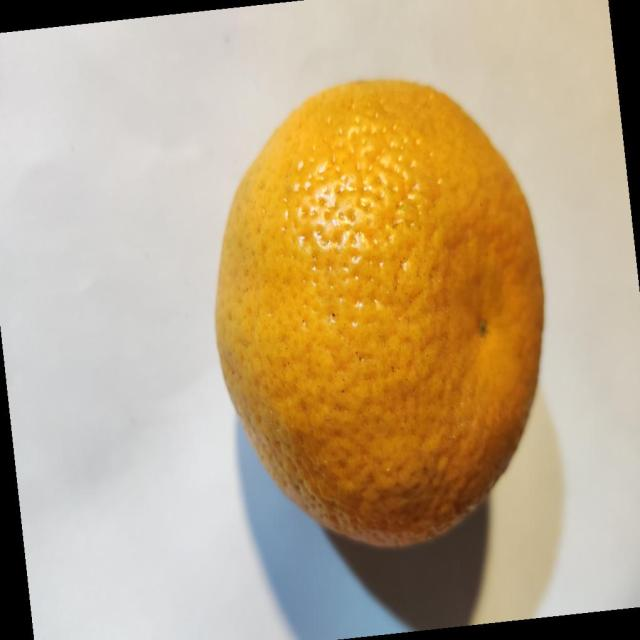fresh orange: (214, 77, 546, 549)
